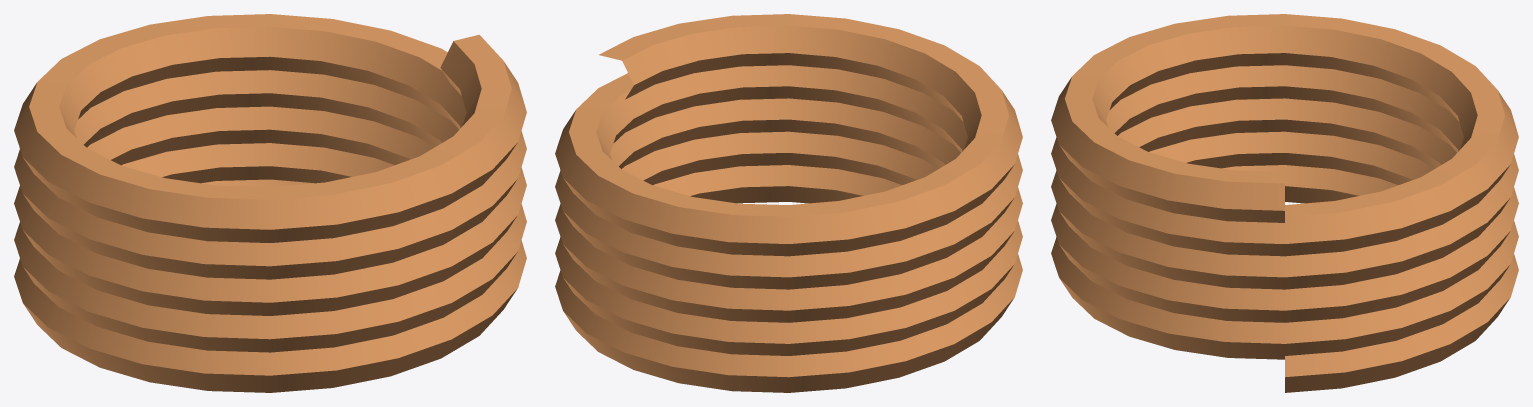
The model's file is cuon_day_dong.glb.
3 renders of one model, left to right at view 1: azimuth 30°, elevation 25°; view 2: azimuth 150°, elevation 25°; view 3: azimuth 270°, elevation 25°, orthographic. The views are drawn at different scales.
Parts seen in each view (by area): view 1: cuon_day_dong; view 2: cuon_day_dong; view 3: cuon_day_dong.
Boxes of the visible parts, bbox=[...] form: cuon_day_dong: bbox=[14, 14, 526, 392]; cuon_day_dong: bbox=[555, 14, 1022, 392]; cuon_day_dong: bbox=[1051, 14, 1518, 392].
Bounding box in the file's own units: 0.102 × 0.0504 × 0.102.
